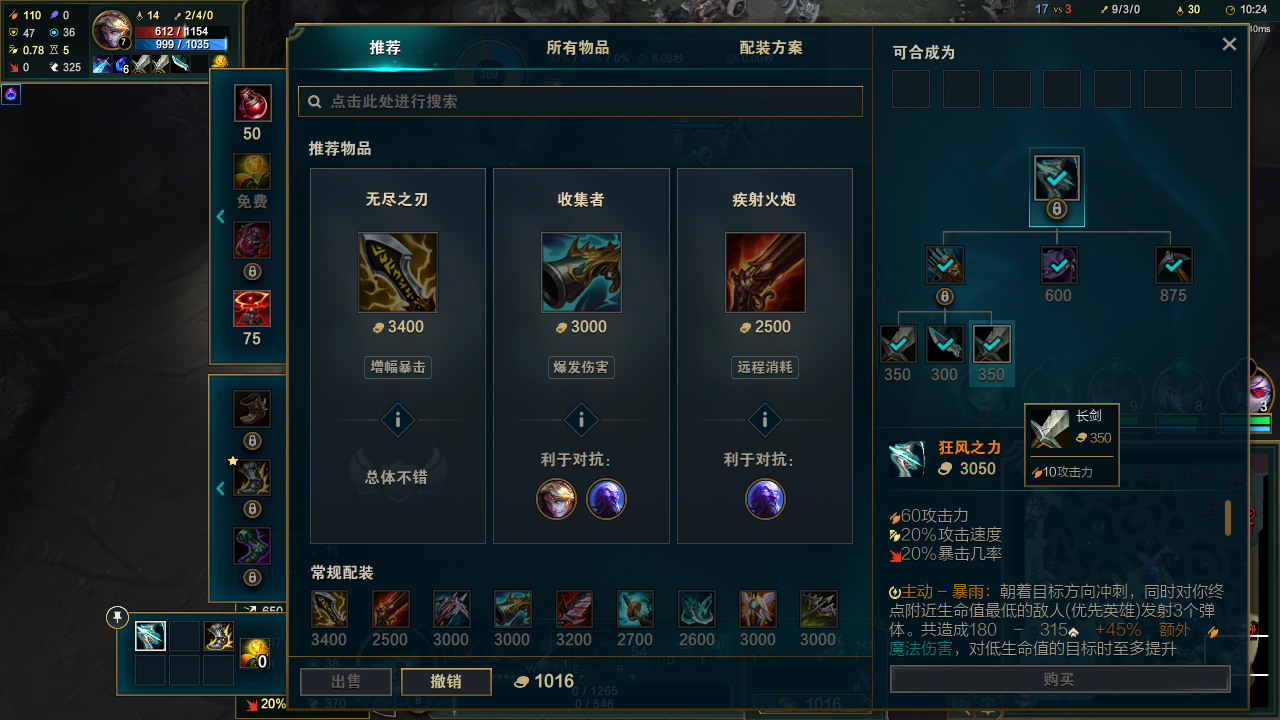GTH: (355, 400, 445, 444), (728, 389, 788, 436), (543, 396, 606, 438)
TJJM: (330, 39, 436, 76)
